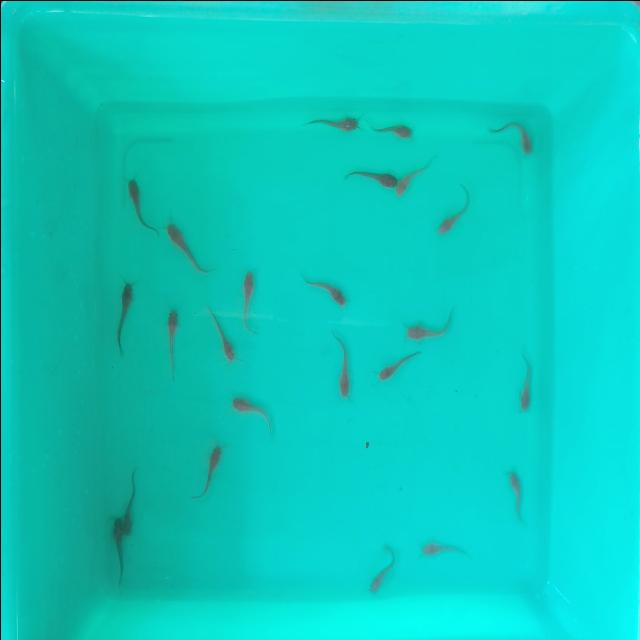lele: (160, 222, 212, 280), (403, 303, 456, 345), (122, 176, 158, 236), (432, 184, 472, 238), (394, 152, 438, 201), (298, 270, 351, 310), (206, 302, 238, 360), (373, 344, 421, 382), (363, 546, 397, 598), (193, 442, 221, 497), (230, 396, 274, 430), (487, 122, 533, 154), (116, 278, 134, 352), (331, 331, 349, 398), (122, 464, 138, 536), (304, 114, 358, 132), (343, 170, 397, 188), (508, 471, 524, 524), (166, 310, 178, 378), (242, 267, 254, 335), (111, 516, 122, 582), (518, 350, 530, 410), (367, 122, 413, 136), (416, 542, 459, 556)
